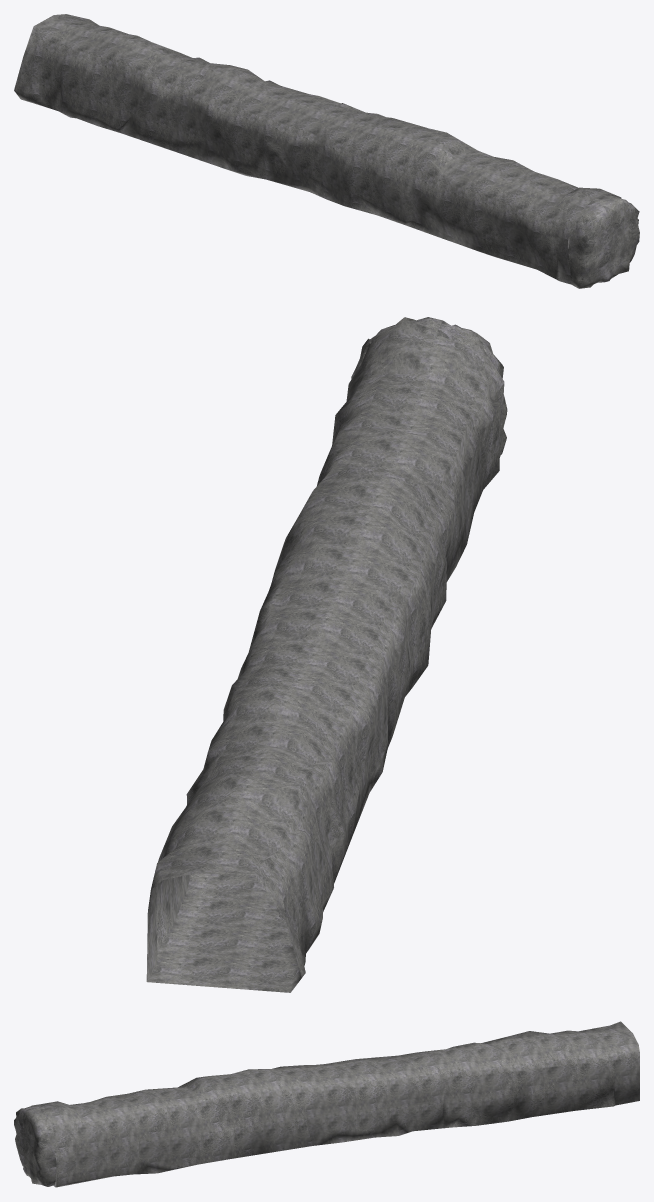
File: escena.fbx
3 views of the same model, one above another, from view 1: azimuth 30°, elevation 25°; view 2: azimuth 150°, elevation 25°; view 3: azimuth 270°, elevation 25° (orthographic). The views are drawn at different scales.
Parts seen in each view (by area): view 1: galeria_decimation2:Group61539, Group28795; view 2: galeria_decimation2:Group61539, galeria_decimation2:Group61540, Group28795; view 3: galeria_decimation2:Group61539, Group28795.
Boxes of the visible parts, left/top/right/bottom form: galeria_decimation2:Group61539: left=14, top=14, right=621, bottom=284; Group28795: left=567, top=195, right=639, bottom=288; galeria_decimation2:Group61539: left=146, top=321, right=504, bottom=992; galeria_decimation2:Group61540: left=147, top=872, right=301, bottom=992; Group28795: left=351, top=317, right=507, bottom=457; galeria_decimation2:Group61539: left=31, top=1021, right=639, bottom=1187; Group28795: left=14, top=1105, right=56, bottom=1186.
Size of the model in its own units: 59.6 by 16.13 by 125.
1 material, 1 textured.
